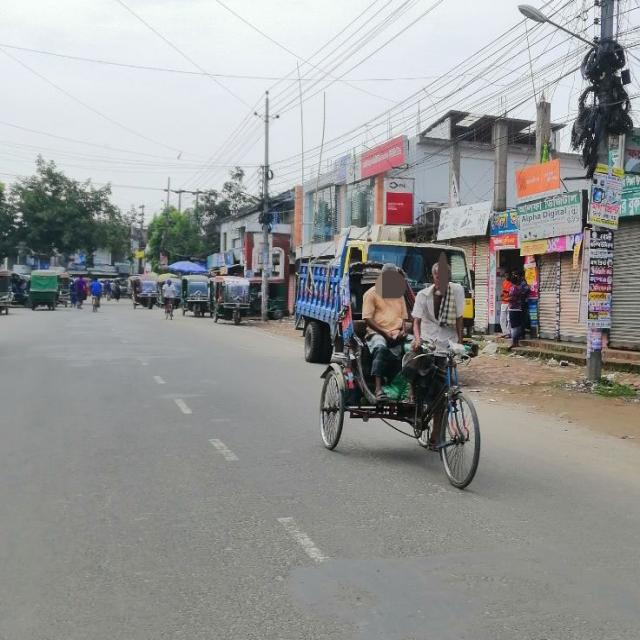Easybike: (210, 273, 255, 327)
Rickshaw: (318, 262, 484, 489)
